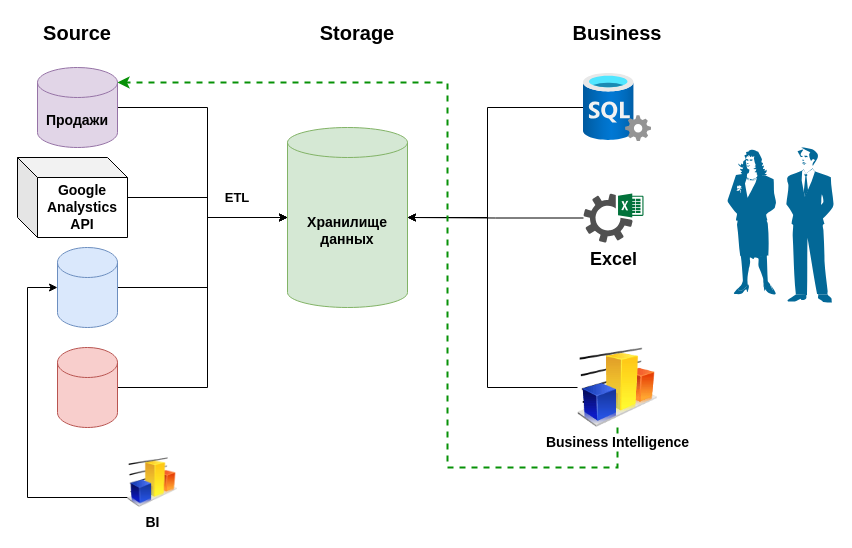
Some shapes in this 852 by 548 pixel diagram are drawn without their labels. Here are the shapes that lost their labels. From the top down, the box of each, then its label:
(726, 146, 834, 303): Пользователь
(56, 246, 118, 328): Склад
(56, 346, 118, 428): СРМ
